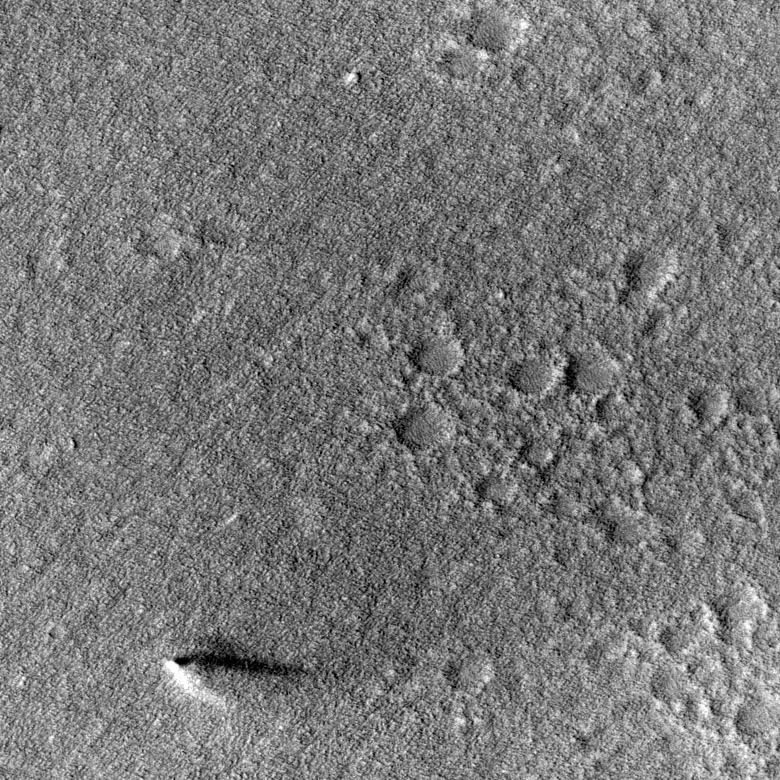dust_devil: (161, 647, 310, 710)
